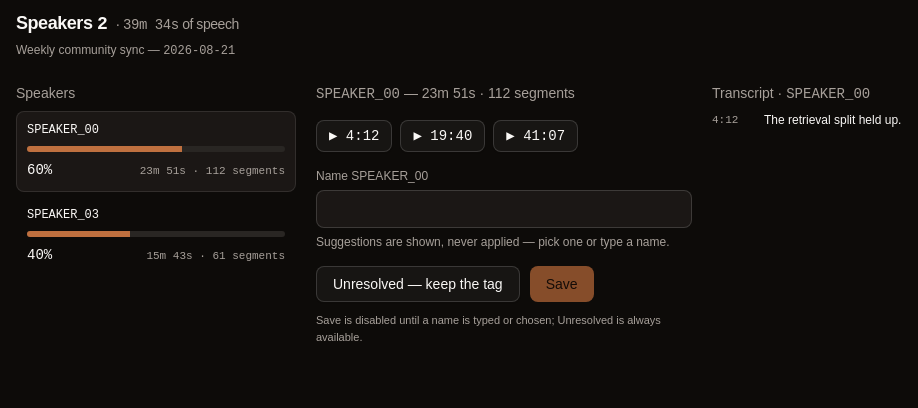
it: the three assignment paths › renders a refused assignment in the api’s own words
Expected: the element with test id "speaker-row-SPEAKER_00" is shown, x1=16 y1=111 x2=296 y2=192
Expected: the text "Weekly community sync — 2026-08-21" is shown, x1=16 y1=43 x2=235 y2=58
Type "Alice Chen" into the dropdown at (504,209), box x1=316 y1=190 x2=692 y2=228
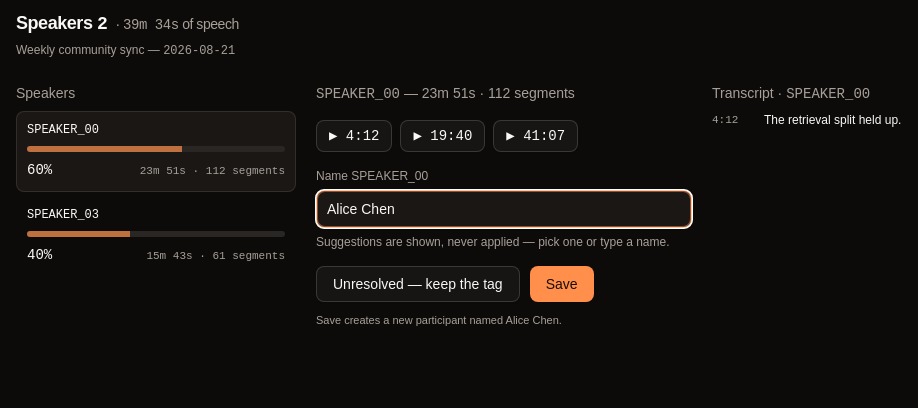
Click the button "Save" at (562,284), box x1=530 y1=266 x2=594 y2=302
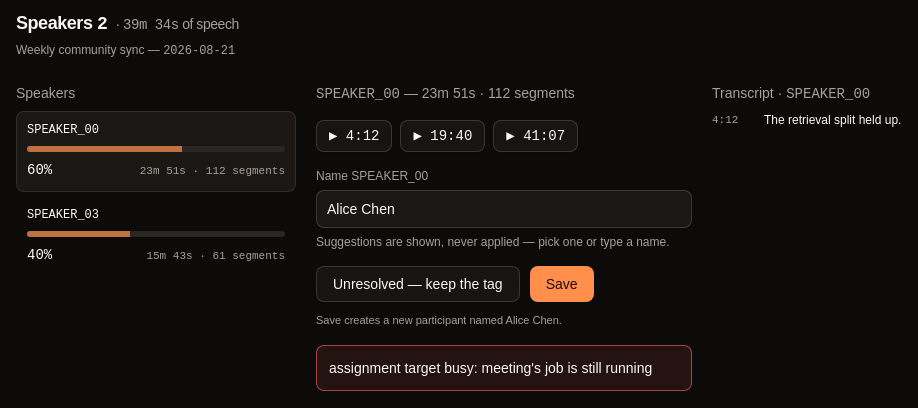
Expected: the message with test id "assignment-refusal" reads "assignment target busy: meeting's job is still running", x1=329 y1=360 x2=652 y2=376
